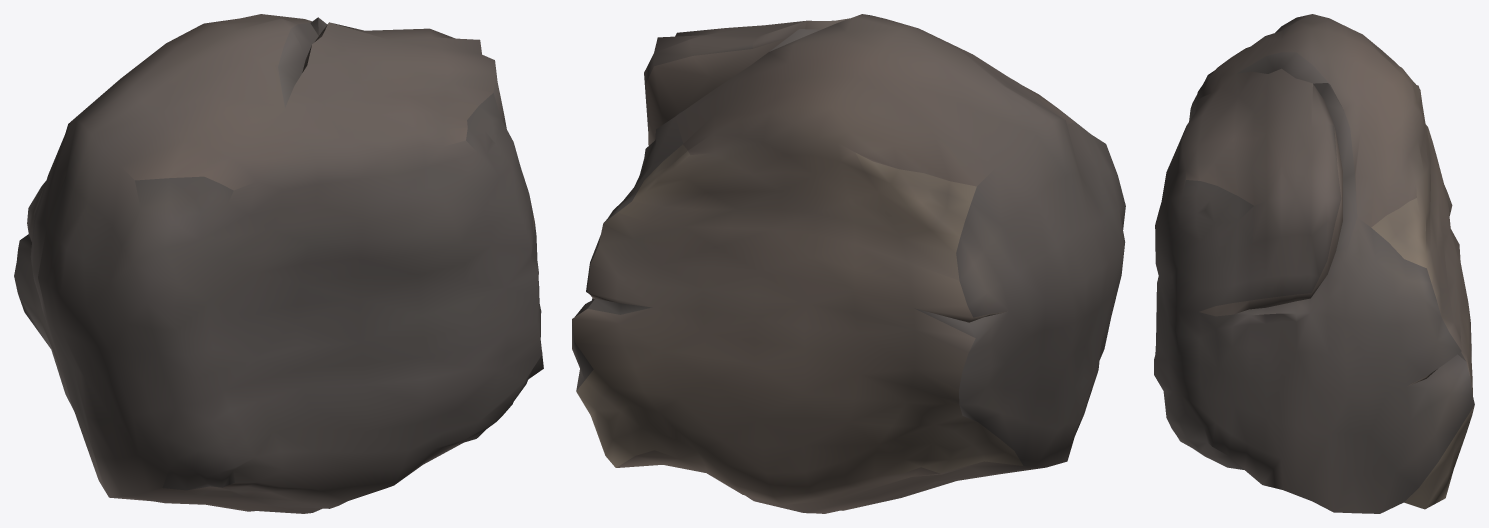
File: RockHuge.010.glb
3 renders of one model, left to right at view 1: azimuth 30°, elevation 25°; view 2: azimuth 150°, elevation 25°; view 3: azimuth 270°, elevation 25°, orthographic. The views are drawn at different scales.
Visible parts, largest first — view 1: RockHuge.010; view 2: RockHuge.010; view 3: RockHuge.010.
Part boxes in pixels (x1,y1,x2,y2): RockHuge.010: [14, 14, 543, 513]; RockHuge.010: [572, 14, 1125, 513]; RockHuge.010: [1154, 14, 1474, 513].
Size of the model in its own units: 2818 by 2918 by 1985.
